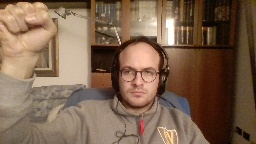Pugno: (0, 0, 59, 59)
